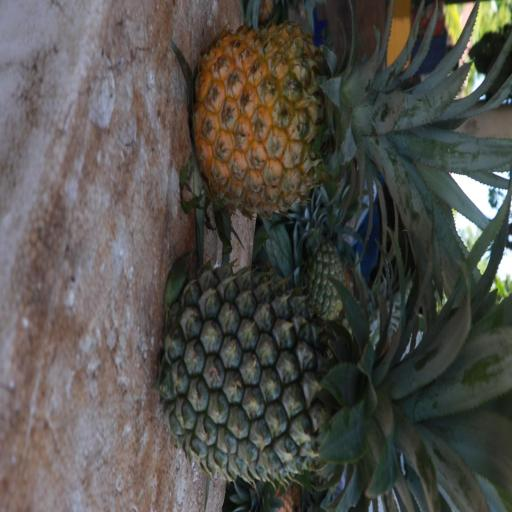Pineapple - v8 v1: (196, 30, 498, 209)
